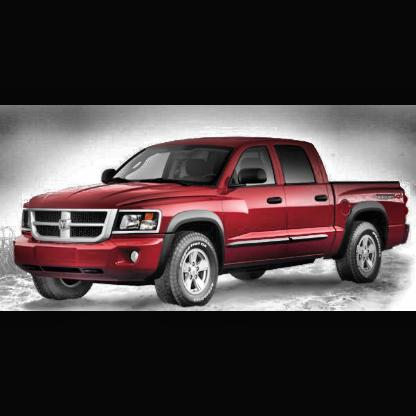Dodge Dakota Crew Cab 2010: (13, 138, 411, 309)
